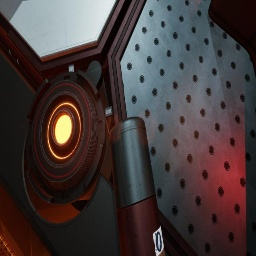NitrogenTank ,: (108, 116, 165, 256)
